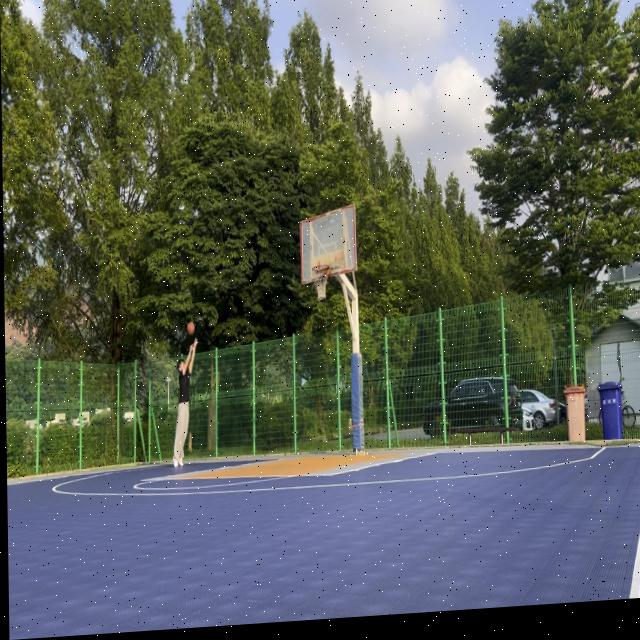basketball: (187, 322, 195, 336)
hoop: (311, 264, 331, 302)
